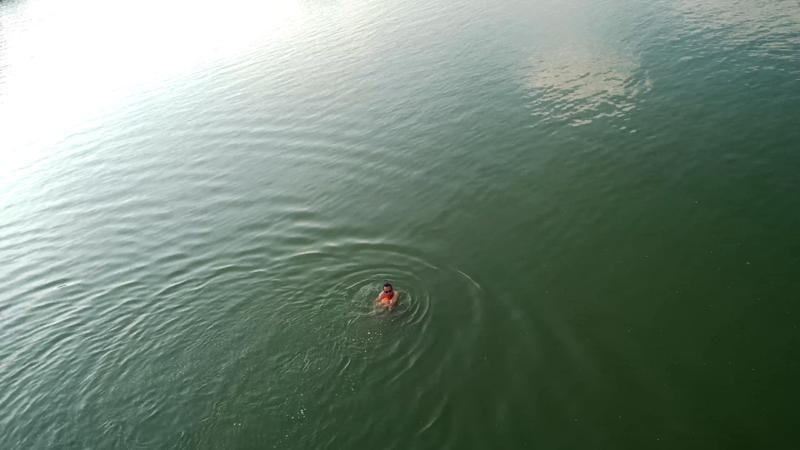swimmers: (374, 282, 399, 310)
